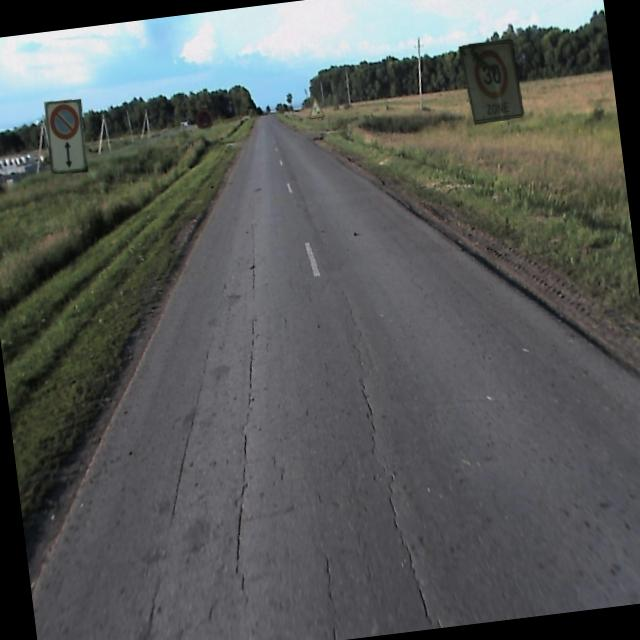road: (31, 113, 640, 640)
